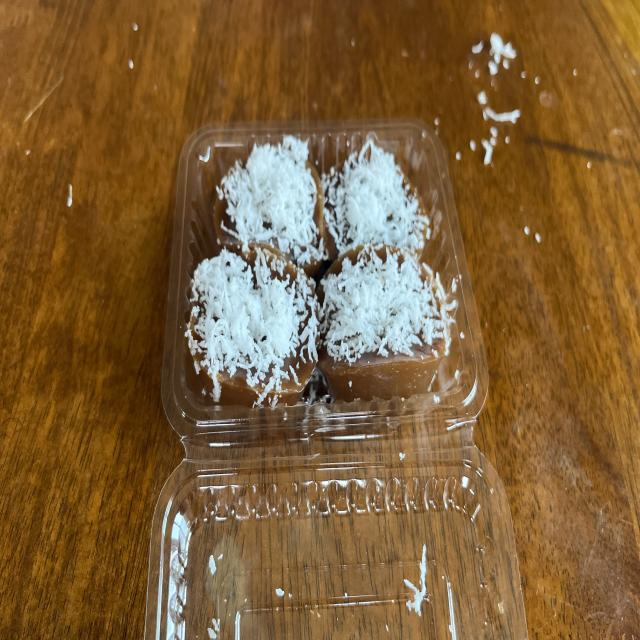Kuih lompang: (185, 244, 319, 407), (319, 242, 450, 402), (215, 136, 328, 276), (321, 138, 430, 260)
